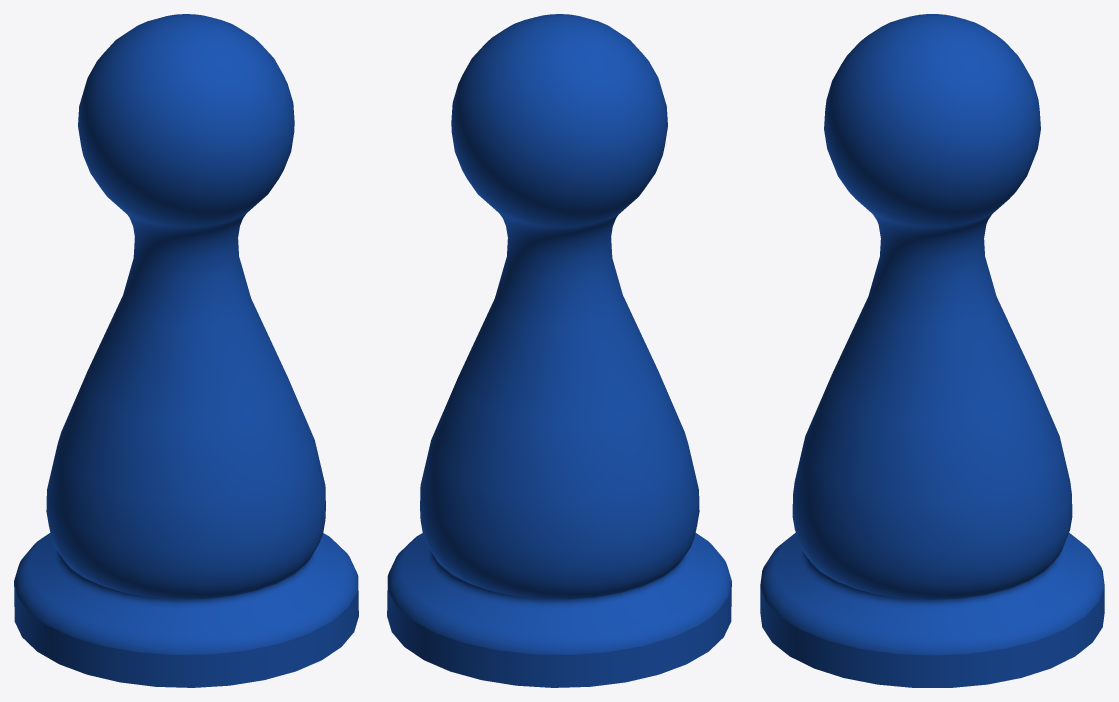
The model's file is soldierblue.obj.
The picture shows the model from 3 angles, left to right: view 1: azimuth 30°, elevation 25°; view 2: azimuth 150°, elevation 25°; view 3: azimuth 270°, elevation 25°; orthographic projection.
Parts seen in each view (by area): view 1: mesh3, mesh4, mesh2, mesh1; view 2: mesh3, mesh4, mesh2, mesh1; view 3: mesh3, mesh4, mesh2, mesh1.
Part boxes in pixels (<box>): mesh3: <box>46,211,325,599</box>; mesh4: <box>78,14,294,226</box>; mesh2: <box>14,533,358,654</box>; mesh1: <box>14,578,358,687</box>; mesh3: <box>420,211,699,599</box>; mesh4: <box>451,14,667,226</box>; mesh2: <box>387,533,731,654</box>; mesh1: <box>387,578,731,687</box>; mesh3: <box>792,211,1072,599</box>; mesh4: <box>824,14,1040,226</box>; mesh2: <box>760,532,1104,655</box>; mesh1: <box>760,587,1104,687</box>.
Bounding box in the file's own units: 0.0151 × 0.0286 × 0.0151.
